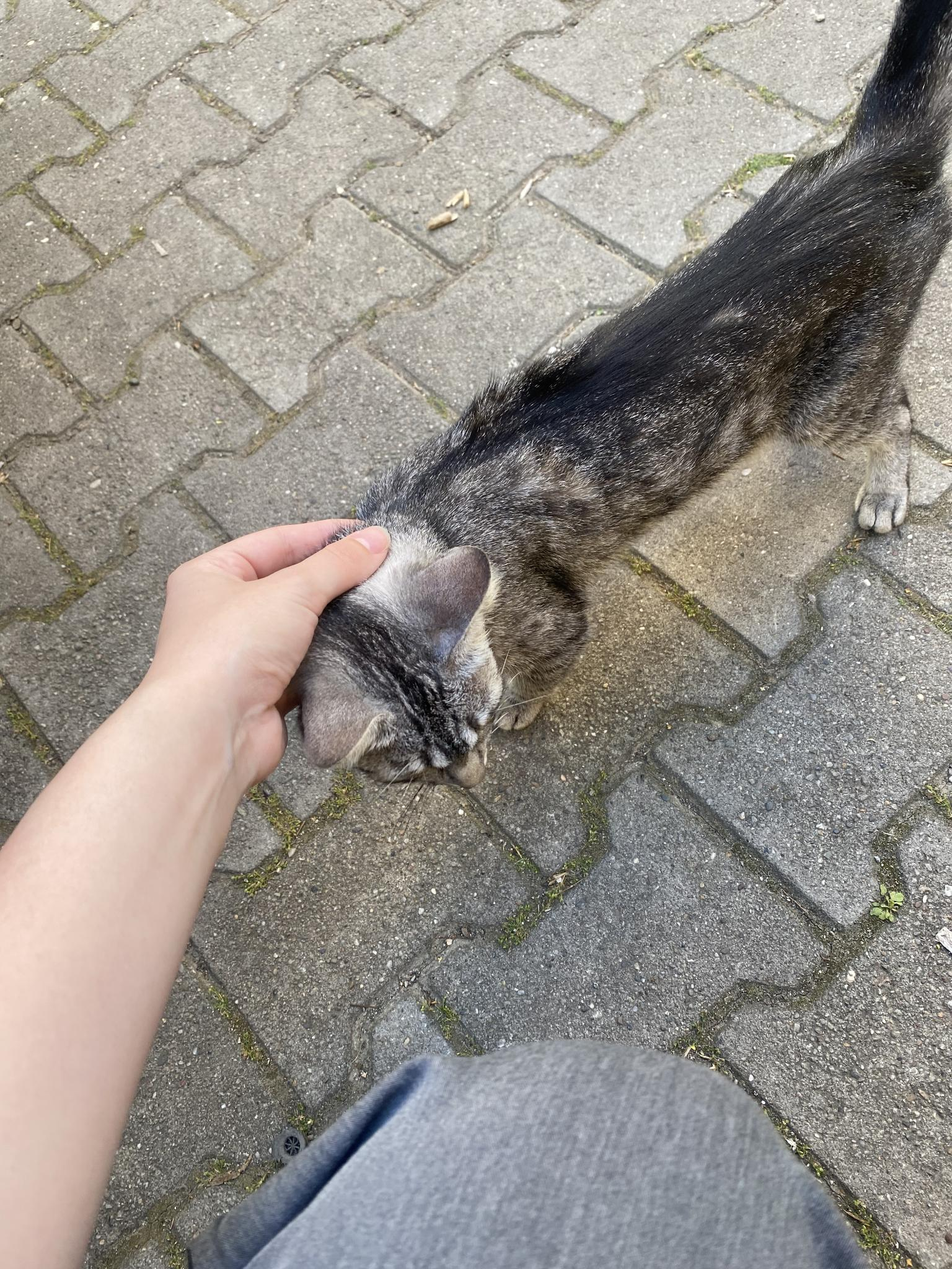macka: (302, 0, 952, 790)
